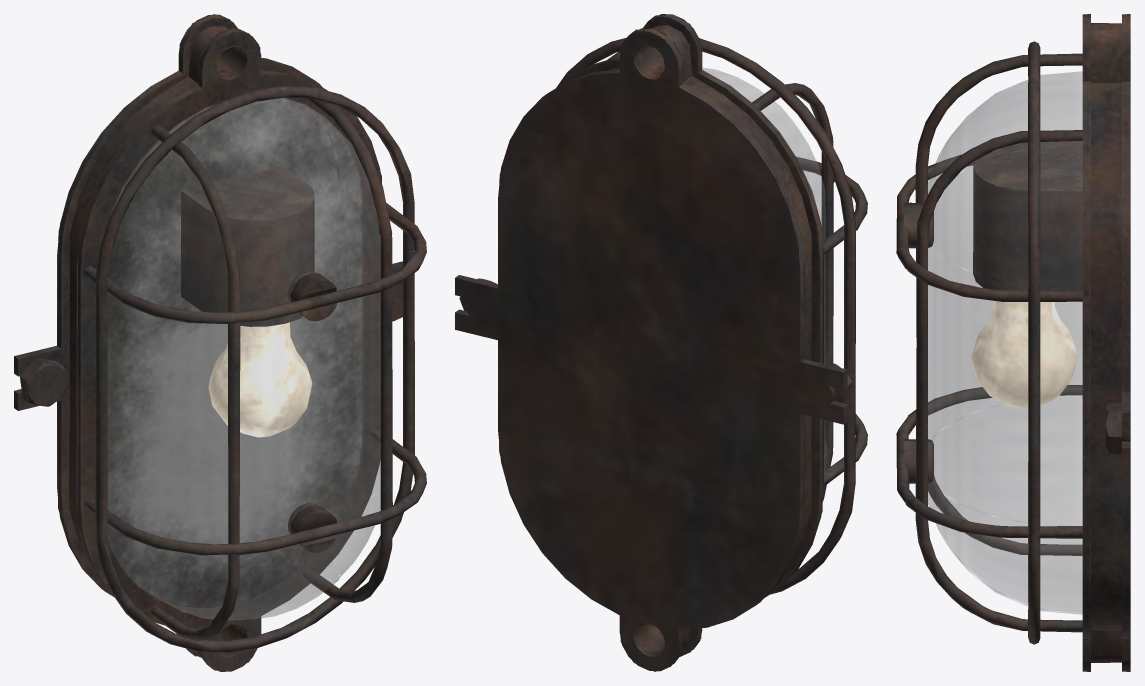
Rendered from industrial_wall_lamp.glb.
3 views of the same model, side by side, from view 1: azimuth 30°, elevation 25°; view 2: azimuth 150°, elevation 25°; view 3: azimuth 270°, elevation 25° (orthographic).
Parts seen in each view (by area): view 1: industrial_wall_lamp; view 2: industrial_wall_lamp; view 3: industrial_wall_lamp.
Boxes of the visible parts, x1,y1,x2,y2 form: industrial_wall_lamp: (14,14,426,671); industrial_wall_lamp: (455,14,867,671); industrial_wall_lamp: (896,14,1130,671).
Size of the model in its own units: 0.1908 by 0.3 by 0.0978.
Materials: 2 (2 with a texture image).
